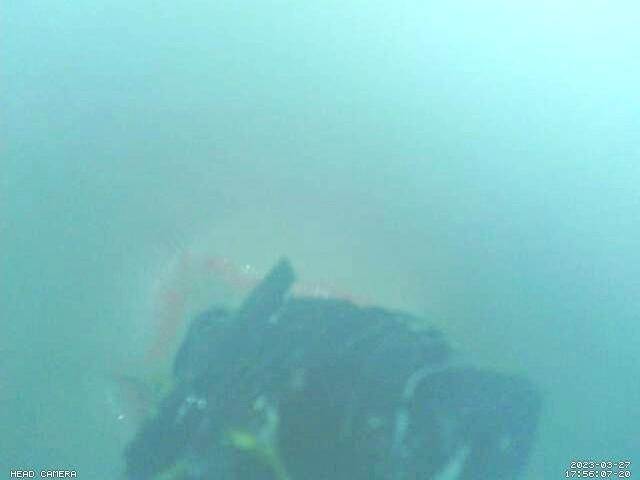head: (115, 249, 352, 425)
